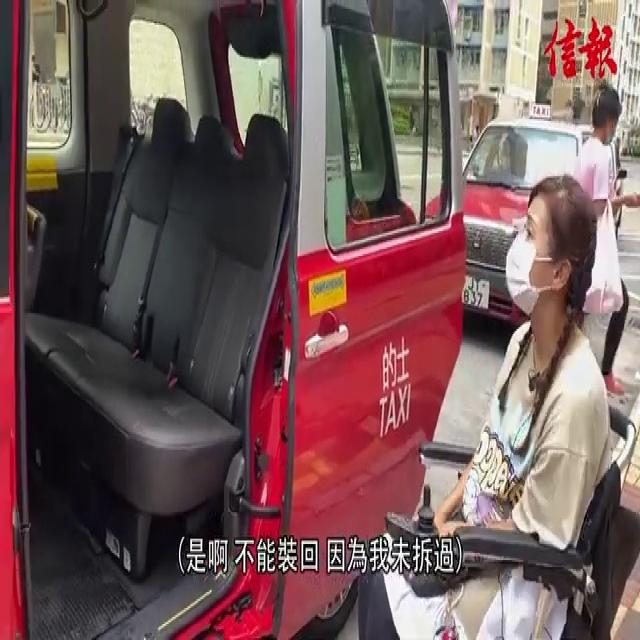wheelchairs: (371, 359, 640, 639)
